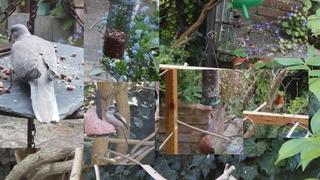collared dove: (8, 24, 60, 124)
long tailed tit: (105, 106, 131, 156)
robin: (270, 93, 284, 114)
